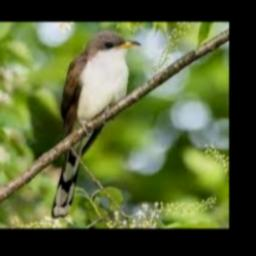Cuckoo: (51, 31, 140, 218)
